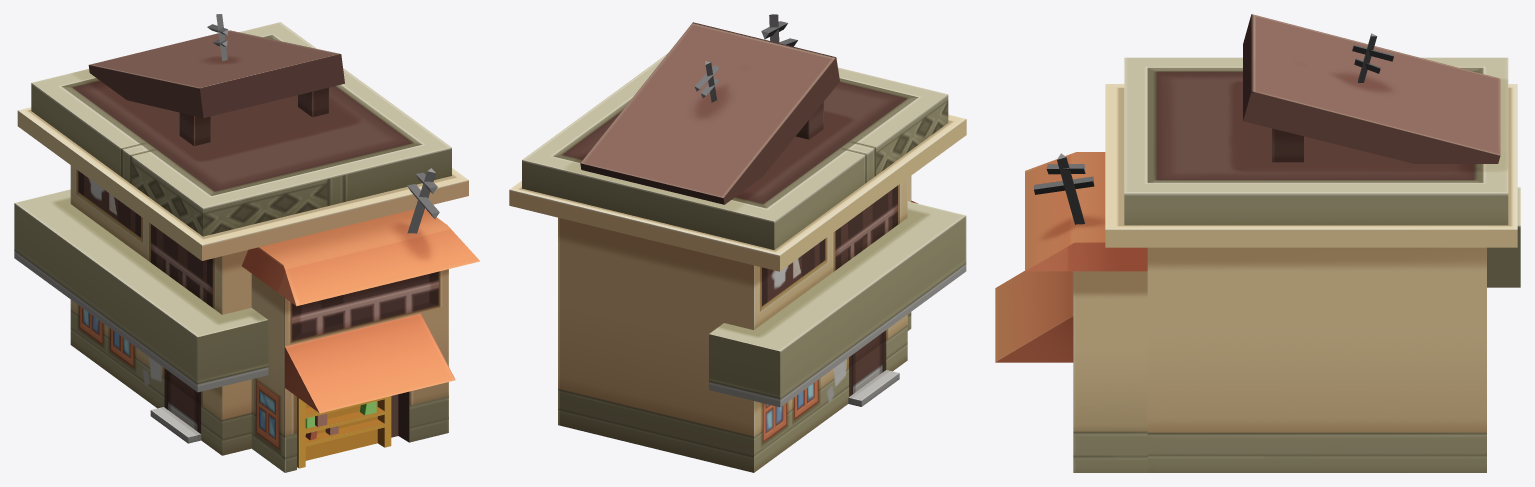
The model's file is loufang.FBX.
3 views of the same model, side by side, from view 1: azimuth 30°, elevation 25°; view 2: azimuth 150°, elevation 25°; view 3: azimuth 270°, elevation 25° (orthographic). The views are drawn at different scales.
Parts seen in each view (by area): view 1: loufang; view 2: loufang; view 3: loufang.
Part boxes in pixels (x1=…): loufang: x1=14, y1=14, x2=479, y2=472; loufang: x1=509, y1=14, x2=966, y2=472; loufang: x1=995, y1=14, x2=1520, y2=472.
Bounding box in the file's own units: 585 × 717 × 885.
1 material, 1 textured.
